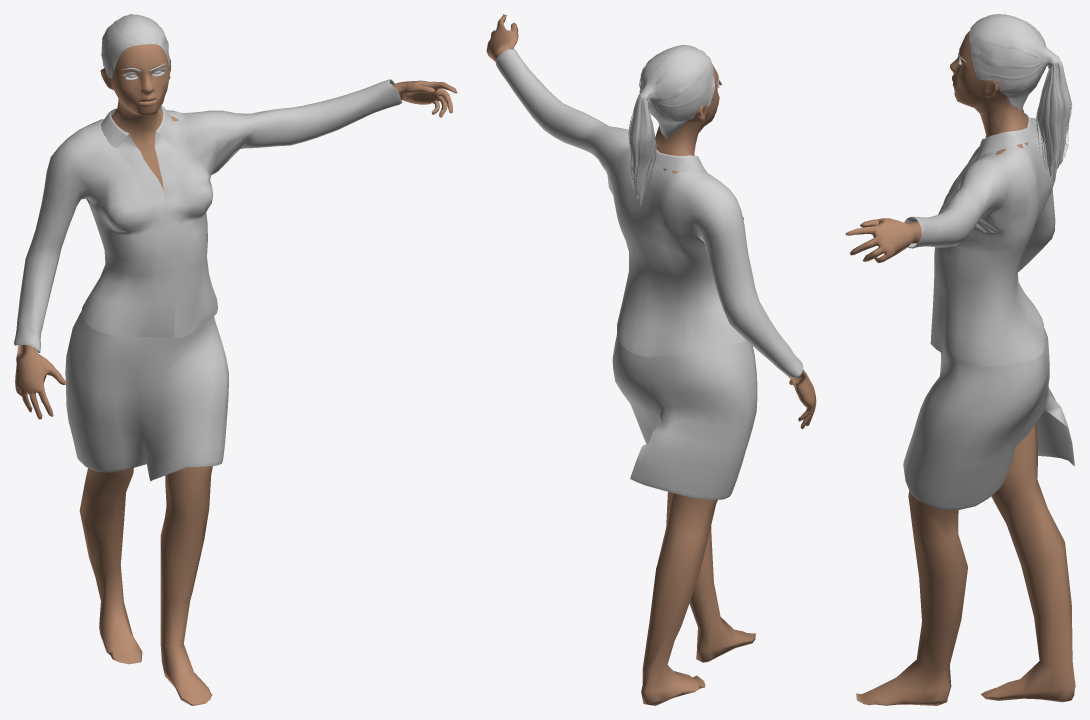
Rendered from Priestess.obj.
3 renders of one model, left to right at view 1: azimuth 30°, elevation 25°; view 2: azimuth 150°, elevation 25°; view 3: azimuth 270°, elevation 25°, orthographic. The views are drawn at different scales.
Visible parts, largest first — view 1: female_elegantsuit01.obj, female1605.obj, ponytail01.obj; view 2: female_elegantsuit01.obj, female1605.obj, ponytail01.obj; view 3: female_elegantsuit01.obj, female1605.obj, ponytail01.obj.
Part boxes in pixels (box(x1,y1,x2,y2)): female_elegantsuit01.obj: box(14, 79, 402, 480); female1605.obj: box(15, 44, 457, 705); ponytail01.obj: box(101, 14, 169, 99); female_elegantsuit01.obj: box(495, 48, 803, 499); female1605.obj: box(486, 14, 816, 705); ponytail01.obj: box(628, 45, 714, 205); female_elegantsuit01.obj: box(903, 113, 1074, 509); female1605.obj: box(845, 31, 1075, 705); ponytail01.obj: box(969, 14, 1072, 180).
Size of the model in its own units: 9.78 by 15.79 by 4.81.
